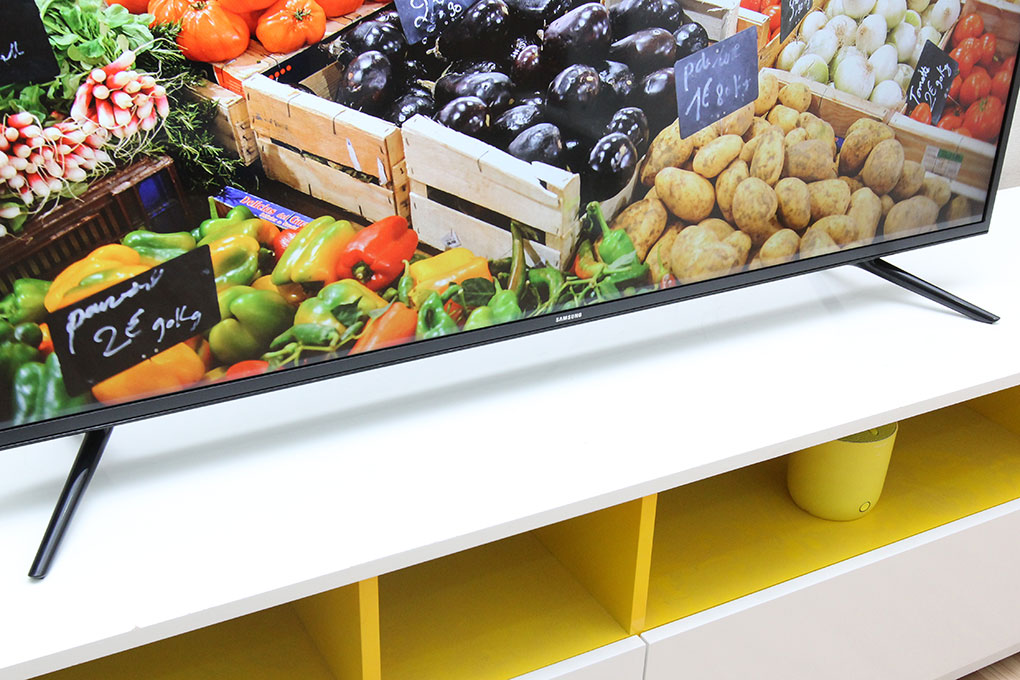SAMSUNG: (451, 276, 678, 409)
